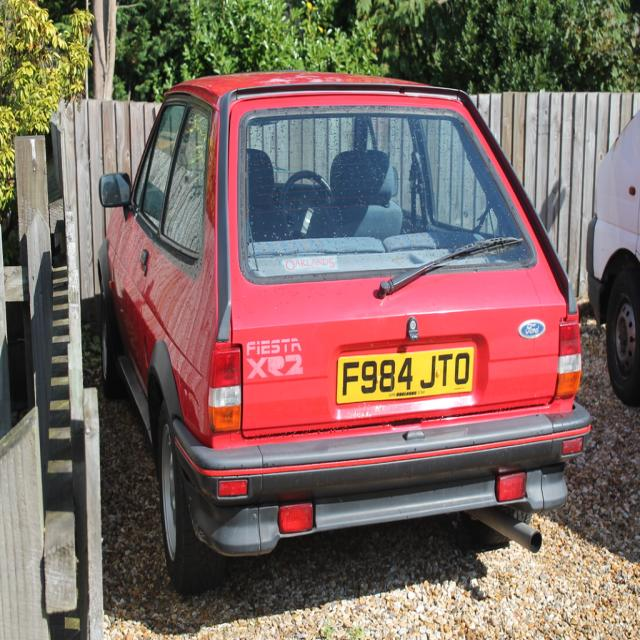car: (97, 69, 587, 598)
